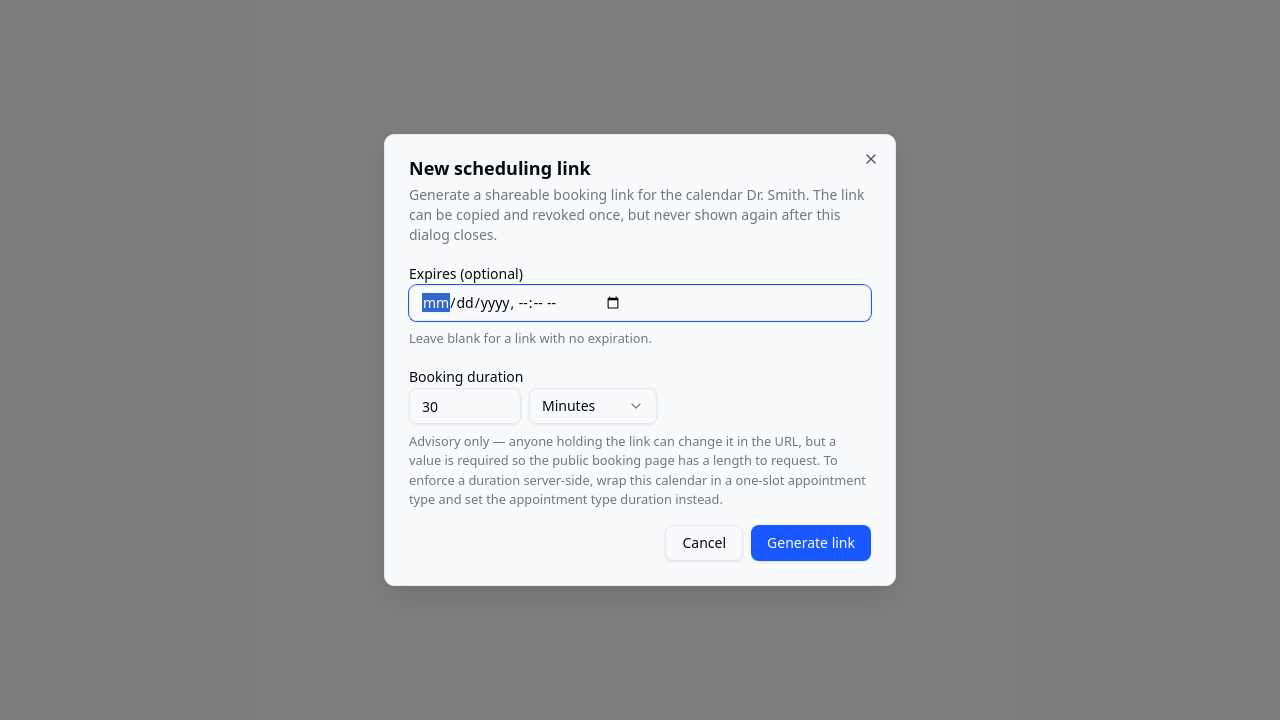
MintBookingLinkDialog › shows the one-time reveal notice and a copy button after minting
The image size is (1280, 720).
Click the button with test id "create-booking-link-submit" at [811, 543], box 751,525 -> 871,561
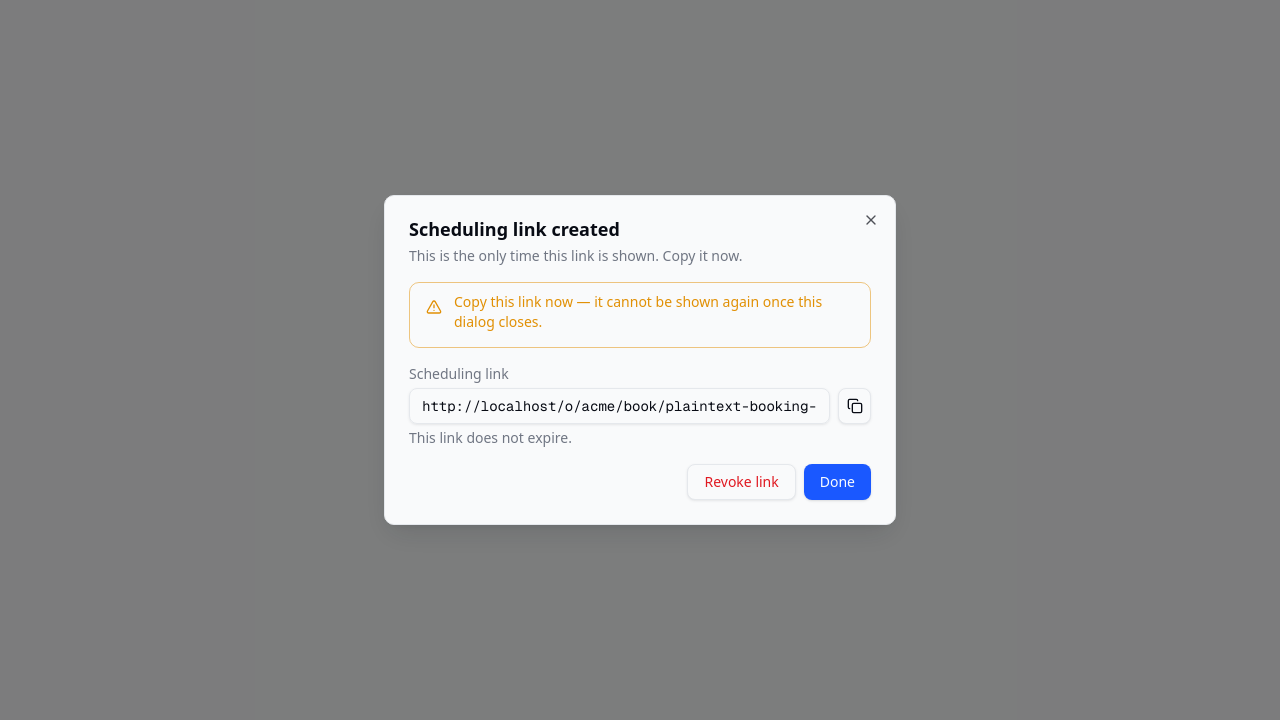
Expected: the field with test id "booking-link-url-input" is shown, 409,388 -> 830,424
Expected: the message with test id "one-time-reveal-notice" shows "cannot be shown again", 454,292 -> 822,331
Expected: the button with test id "copy-booking-link-button" is shown, 838,388 -> 871,424
